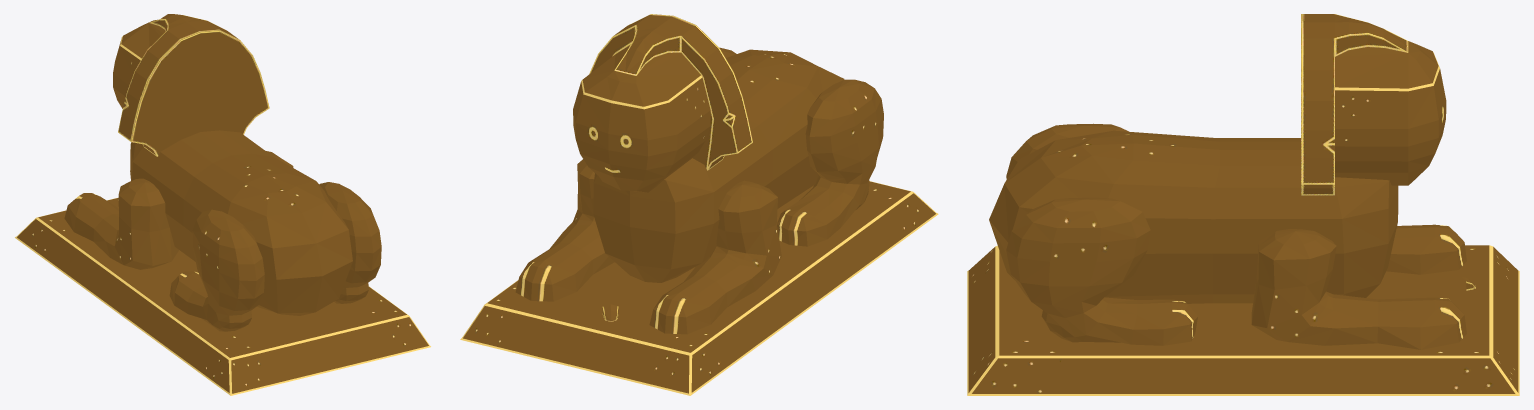
The model's file is SandSphinx.glb.
3 renders of one model, left to right at view 1: azimuth 30°, elevation 25°; view 2: azimuth 150°, elevation 25°; view 3: azimuth 270°, elevation 25°, orthographic. The views are drawn at different scales.
Visible parts, largest first — view 1: Sphinx; view 2: Sphinx; view 3: Sphinx.
Part boxes in pixels (x1,y1,x2,y2): Sphinx: [15, 14, 430, 395]; Sphinx: [460, 14, 938, 395]; Sphinx: [967, 14, 1519, 395].
Bounding box in the file's own units: 0.1925 × 0.2237 × 0.3597.
1 material, 1 textured.
